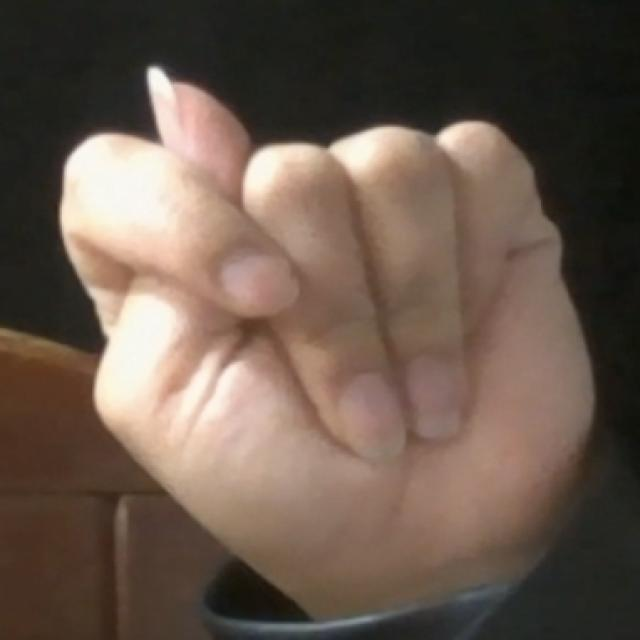T: (47, 49, 609, 612)
